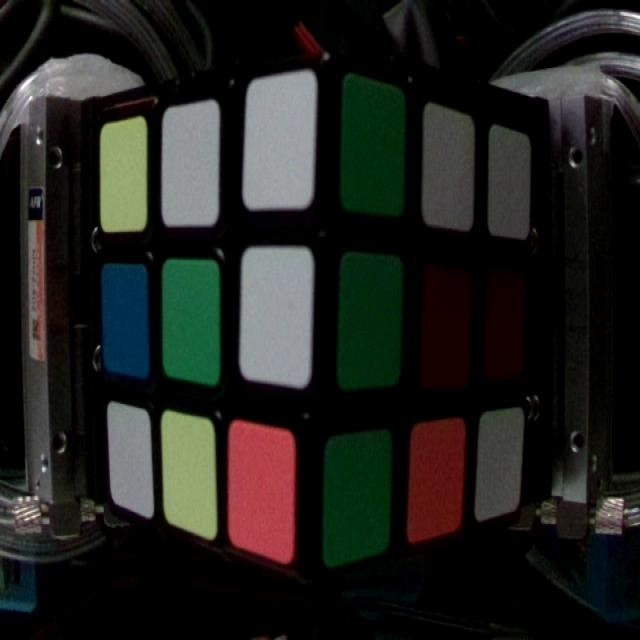b: (102, 264, 149, 377)
g: (345, 78, 403, 214), (343, 260, 402, 388), (328, 440, 388, 565), (164, 261, 218, 383)
o: (228, 423, 295, 553), (409, 420, 464, 539)
r: (425, 268, 471, 385), (490, 272, 530, 375)
w: (242, 248, 311, 385), (247, 79, 314, 204), (161, 109, 221, 224), (425, 104, 475, 217), (106, 407, 154, 517), (478, 413, 522, 518), (490, 131, 529, 232)
y: (161, 409, 214, 532), (100, 124, 146, 232)
